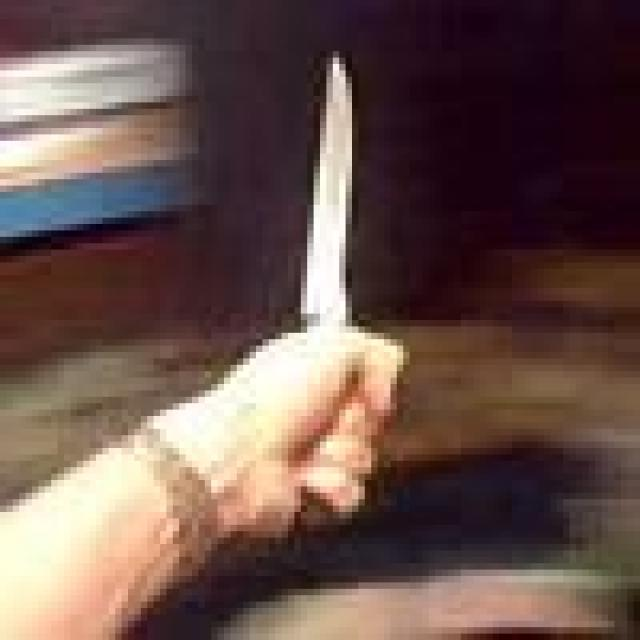senjata_tajam: (298, 47, 358, 336)
